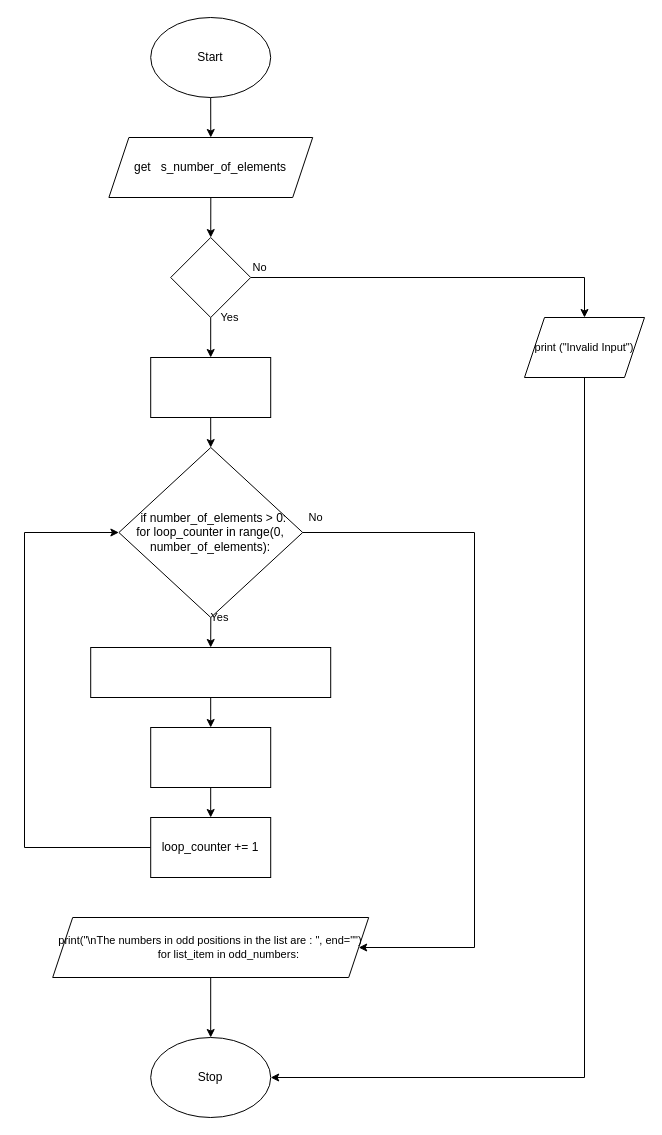
Some shapes in this 662 by 1135 pixel diagram are drawn without their labels. The box of each missing label's shape, as (x1, y1, x2, y2) in pixels:
convert string to int: (150, 356, 271, 418)
loop_counter + 1, random_number: (150, 726, 271, 788)
random_number = random.randint(1, 100) list_of_numbers.append(random_number): (90, 646, 331, 698)
try: (170, 236, 251, 318)
